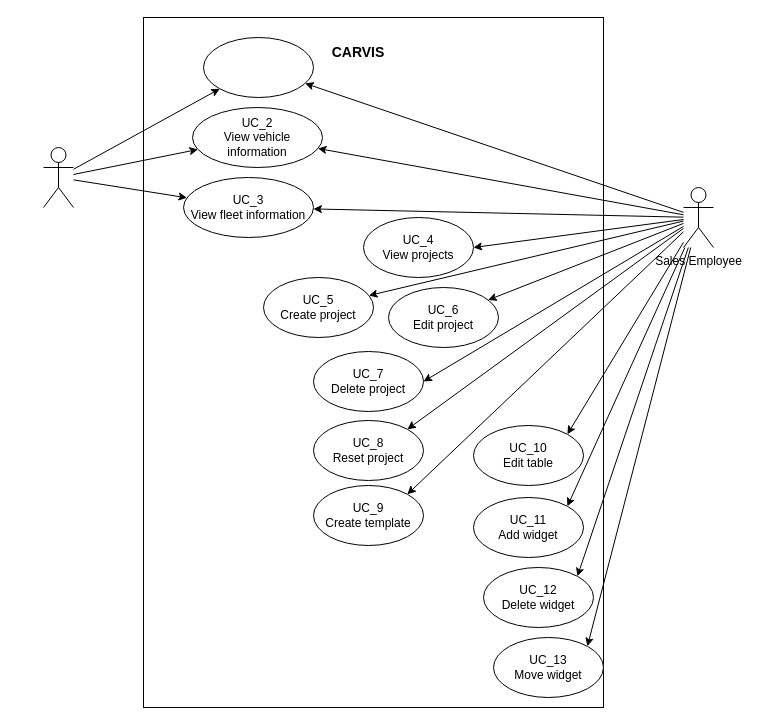
The diagram is 759 pixels wide and 725 high, and some of its shapes have lost their labels. The centre of each missing label's shape, as x and y in pixels:
Decision Maker: [58,177]
UC_1 View vehicles: [258,67]
